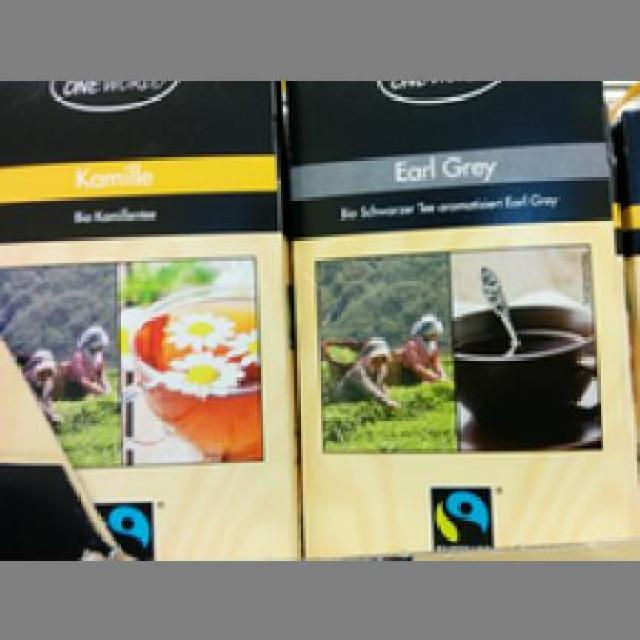Tea: (280, 77, 634, 557), (0, 77, 300, 557)
